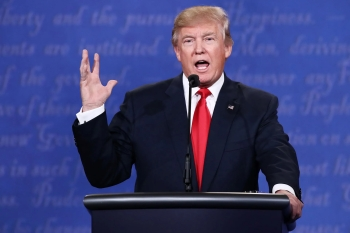hand: (78, 47, 118, 107)
